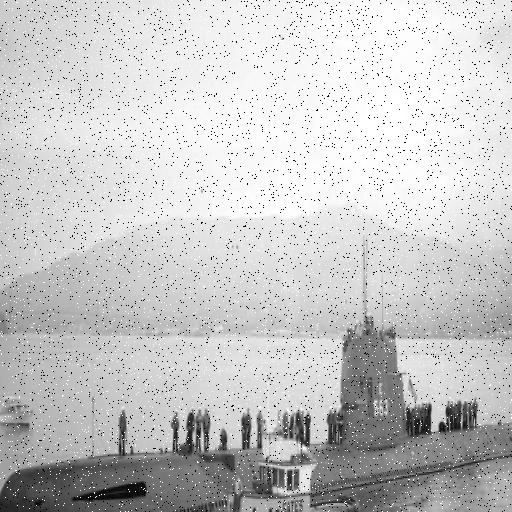submarine: (1, 229, 512, 512)
